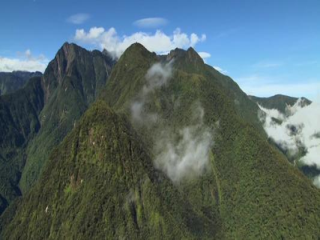smoke: (131, 68, 220, 187)
